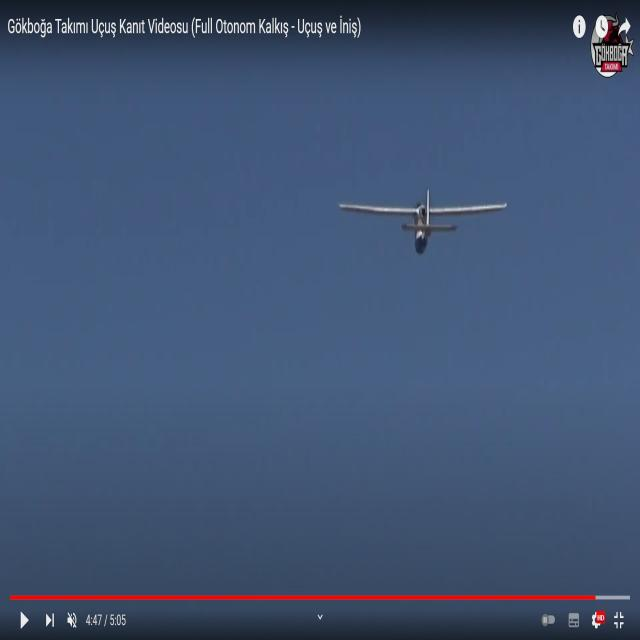iha: (342, 220, 508, 223)
